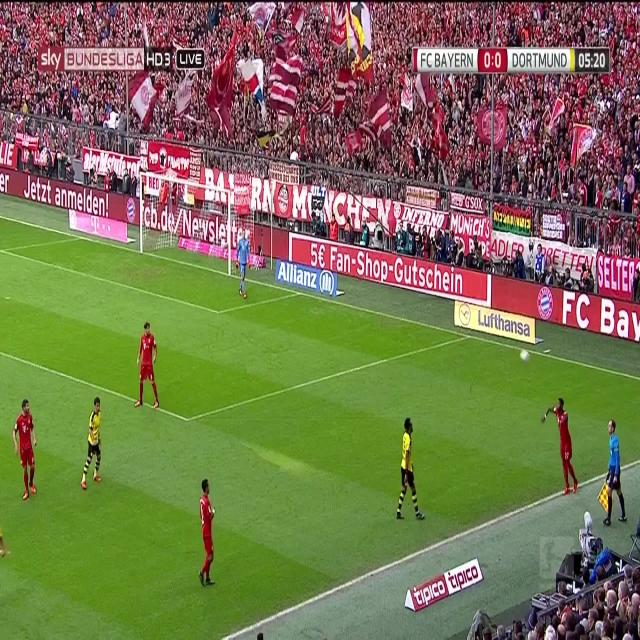Ball: (518, 345, 531, 365)
Goalkeeper: (235, 228, 254, 301)
Player: (540, 395, 580, 495), (394, 415, 427, 522), (12, 396, 38, 503), (80, 394, 105, 495), (134, 322, 161, 411), (198, 477, 218, 588)
Referee: (604, 416, 628, 526)
